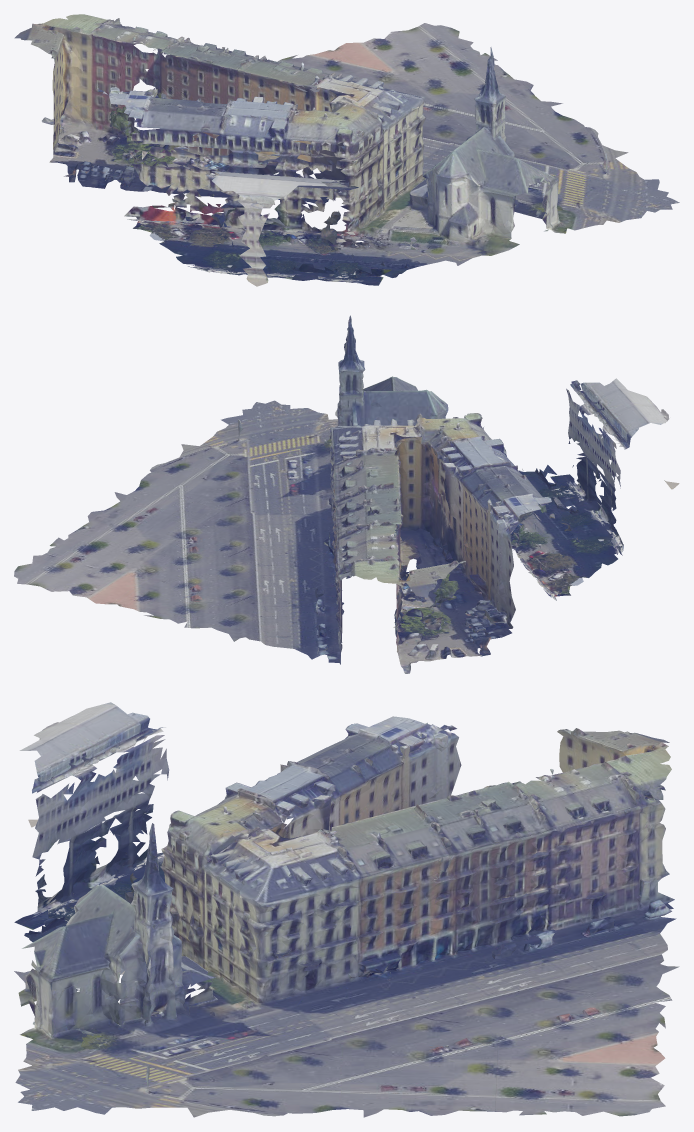
The picture shows the model from 3 angles, top to bottom: view 1: azimuth 30°, elevation 25°; view 2: azimuth 150°, elevation 25°; view 3: azimuth 270°, elevation 25°; orthographic projection. The views are drawn at different scales.
Size of the model in its own units: 108 by 38.8 by 108.
Materials: 1 (1 with a texture image).
